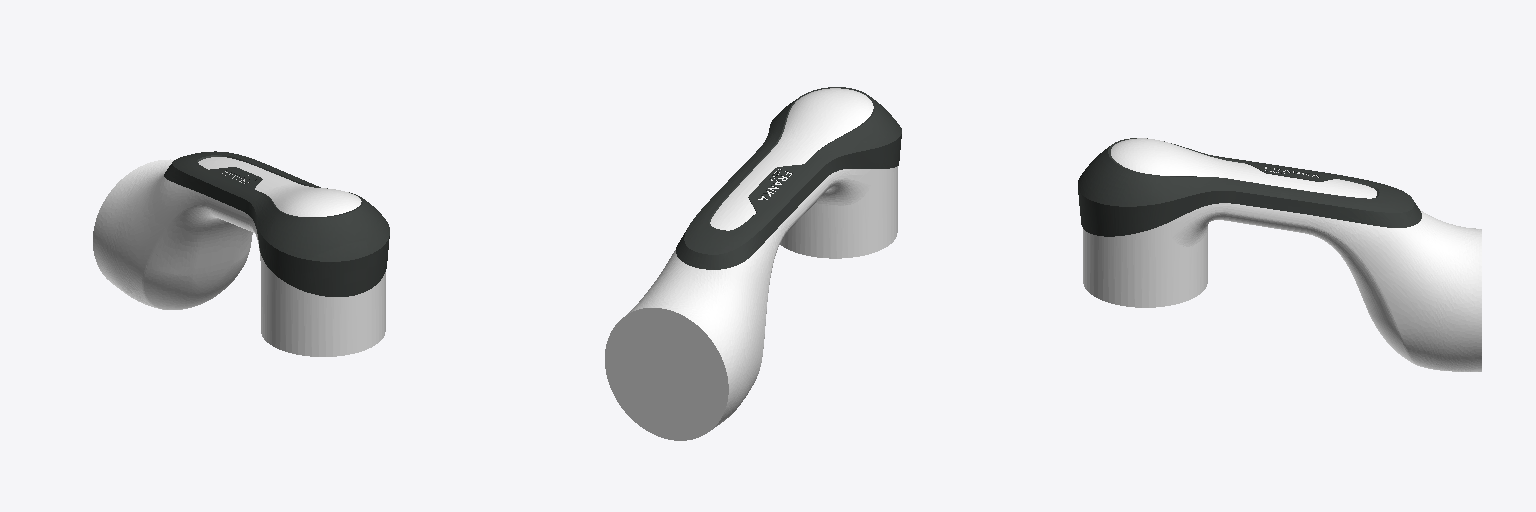
The picture shows the model from 3 angles: view 1: azimuth 30°, elevation 25°; view 2: azimuth 150°, elevation 25°; view 3: azimuth 270°, elevation 25°; orthographic projection.
Size of the model in its own units: 0.11 by 0.1849 by 0.3112.
1 materials, 1 textured.